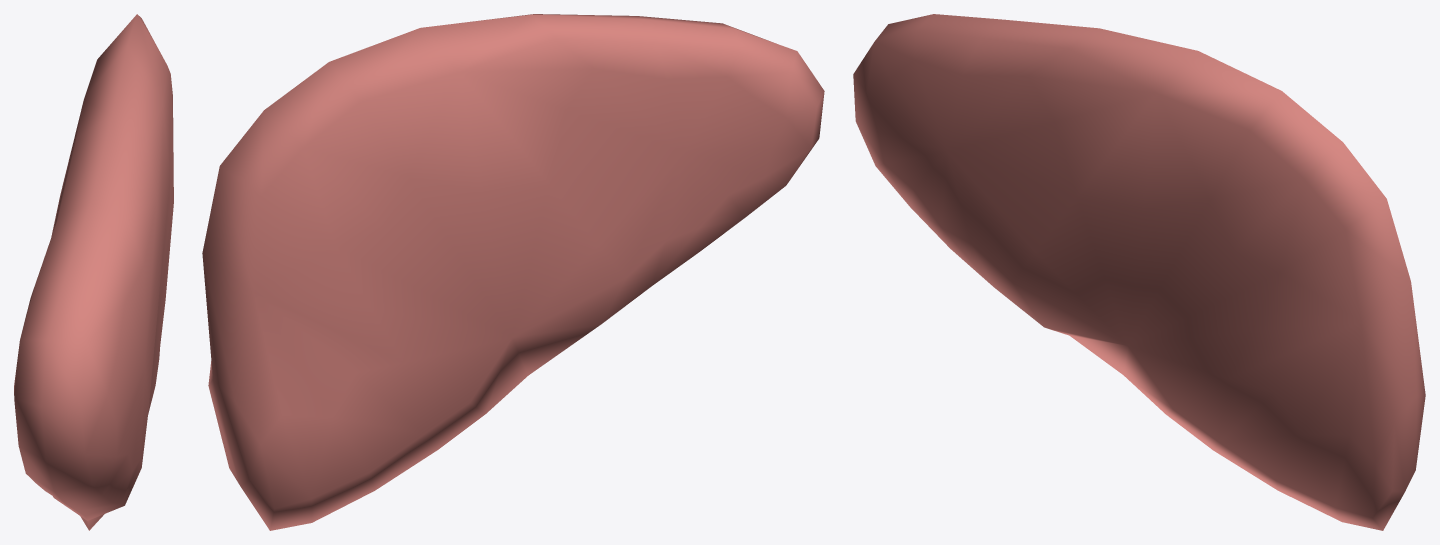
The picture shows the model from 3 angles, left to right: view 1: azimuth 30°, elevation 25°; view 2: azimuth 150°, elevation 25°; view 3: azimuth 270°, elevation 25°; orthographic projection. The views are drawn at different scales.
Visible parts, largest first — view 1: ZA_ead8a84a03145ccb; view 2: ZA_ead8a84a03145ccb; view 3: ZA_ead8a84a03145ccb.
Part boxes in pixels (x1,y1,x2,y2): ZA_ead8a84a03145ccb: (14, 14, 173, 530); ZA_ead8a84a03145ccb: (202, 14, 824, 530); ZA_ead8a84a03145ccb: (853, 14, 1425, 530).
Bounding box in the file's own units: 0.00237 × 0.00281 × 0.00322.
